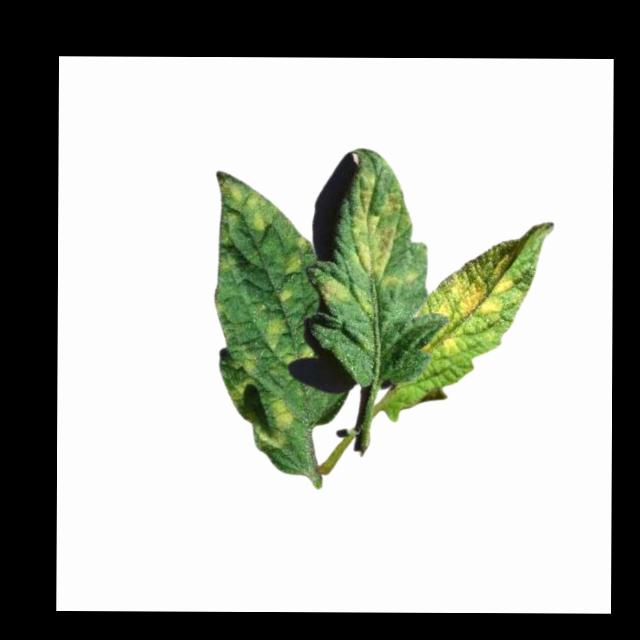Leaf_Mold: (419, 238, 515, 356), (349, 172, 418, 286), (210, 174, 276, 229), (248, 396, 291, 452), (225, 351, 256, 402), (316, 275, 350, 308), (283, 234, 307, 276), (260, 313, 287, 346)
